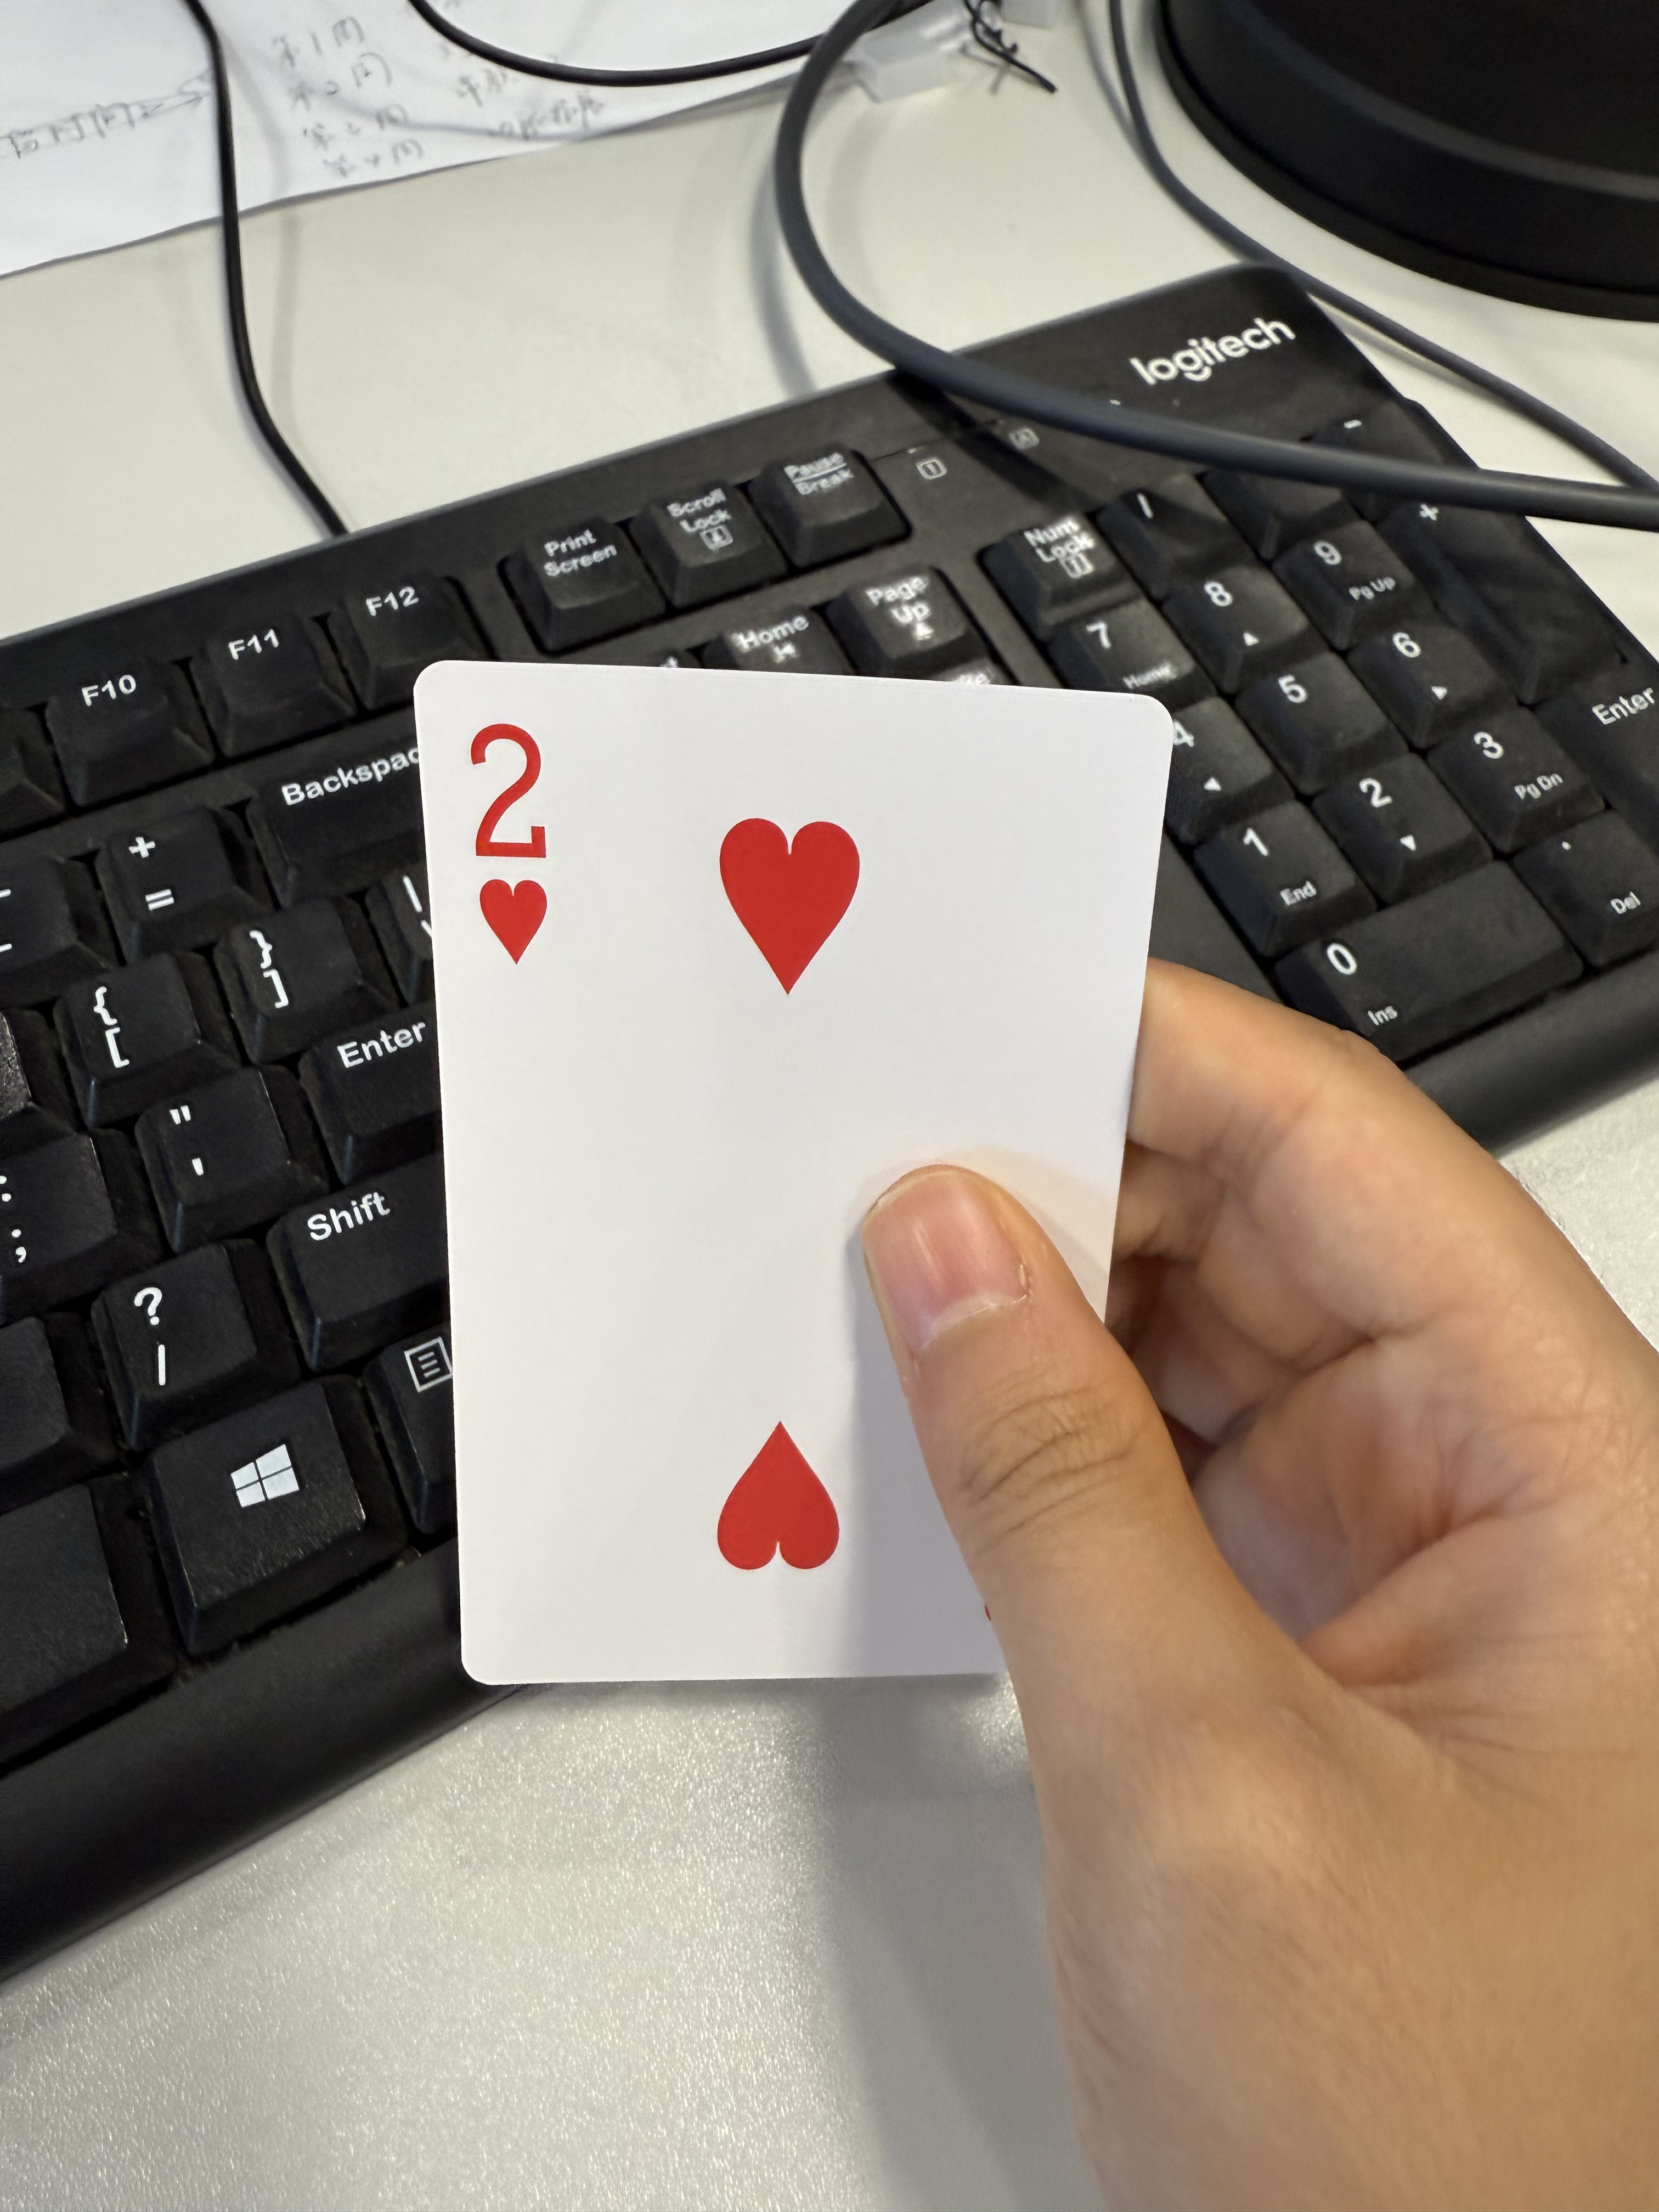poker: (406, 650, 1182, 1702)
